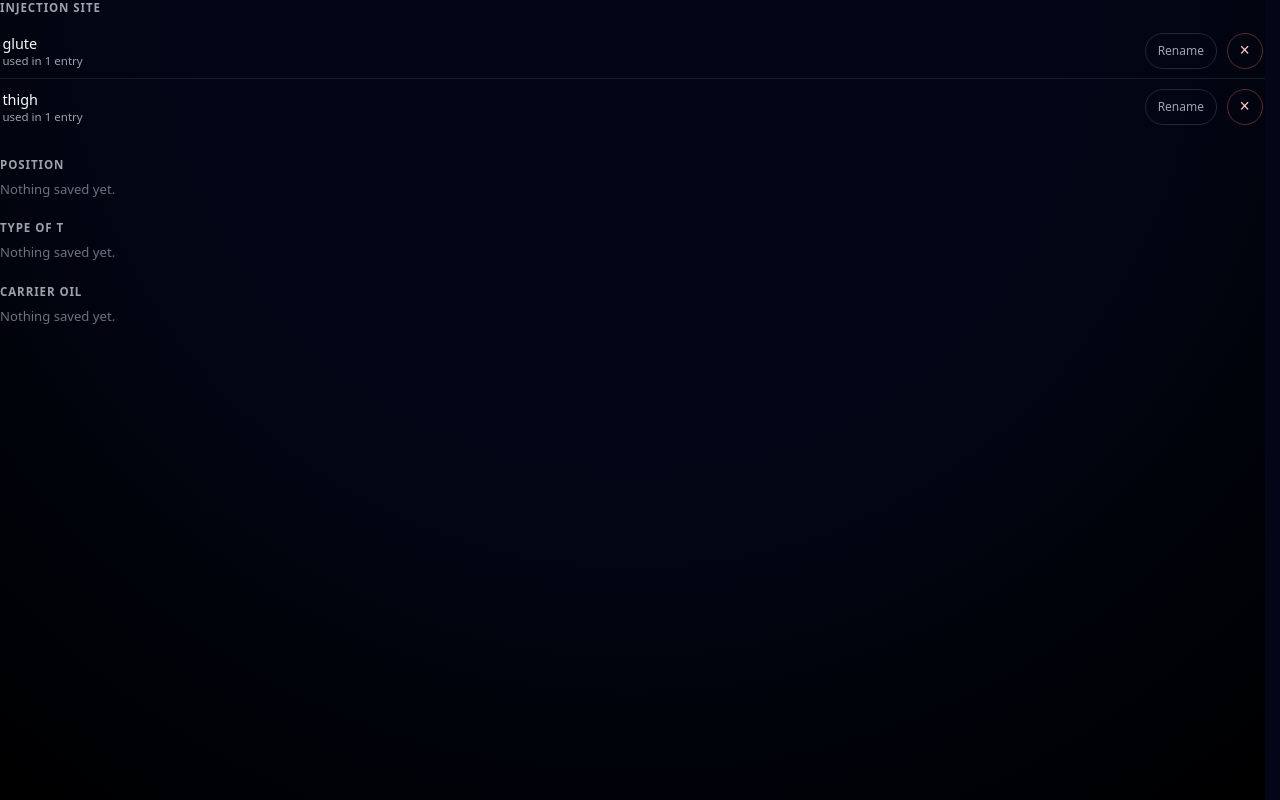
it: ManageValues › moves focus to the panel when Remove deletes the opener's row
Click the button named "Remove glute". click: (1245, 51)
box: left=1227, top=33, right=1263, bottom=69
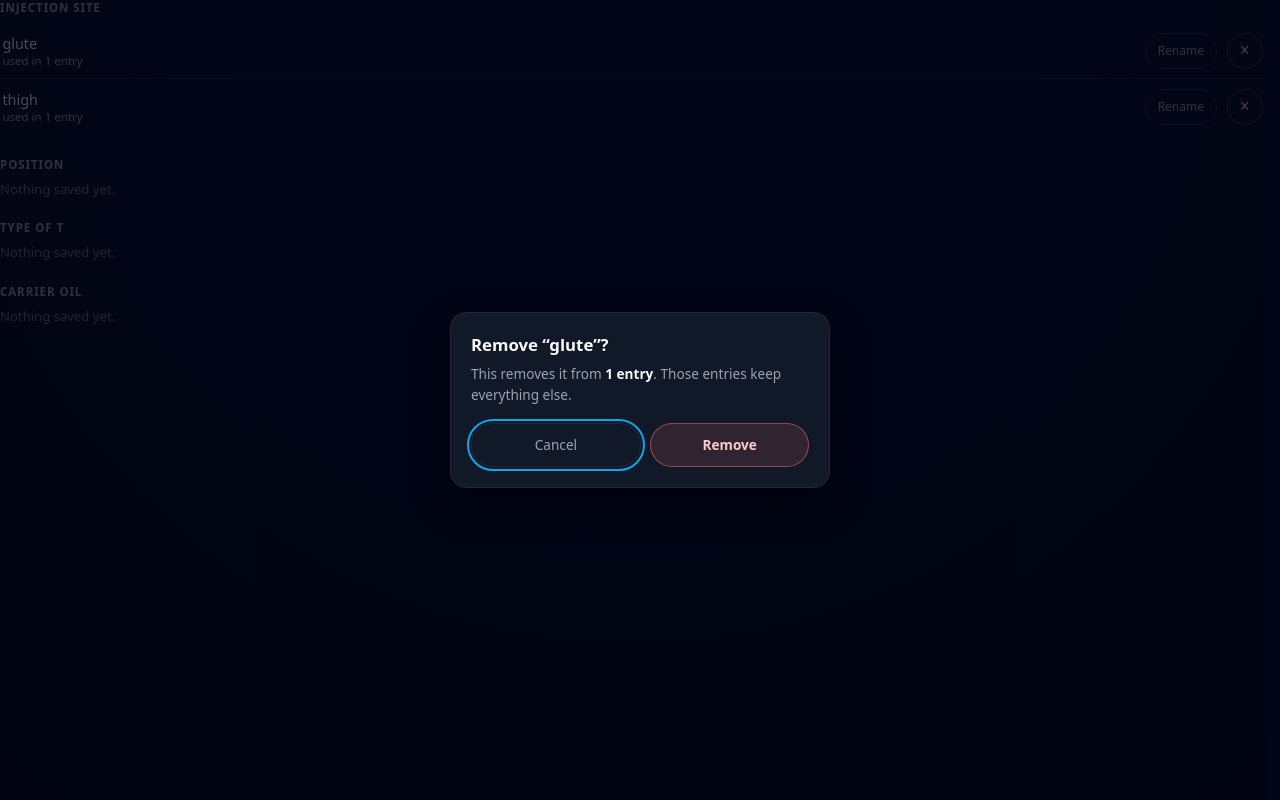
Click the button "Remove". click: (730, 445)
box: left=650, top=423, right=809, bottom=467
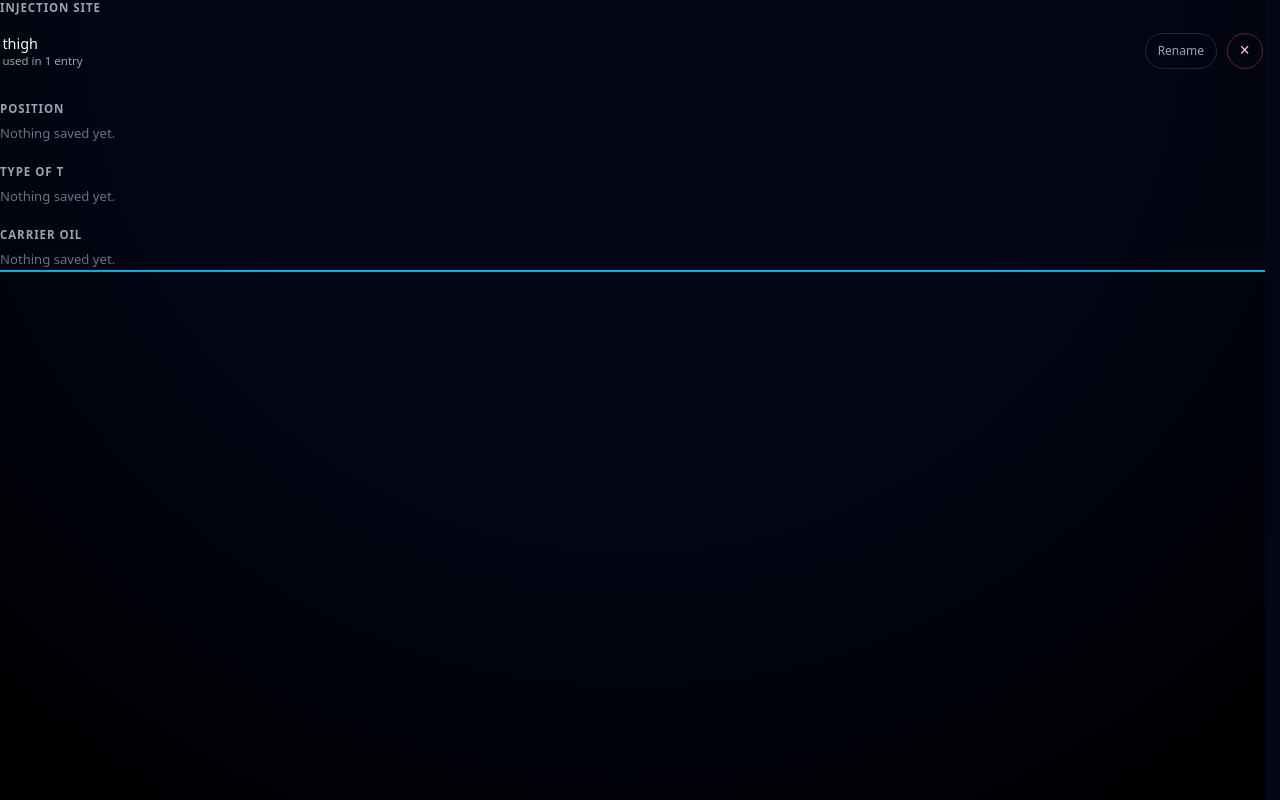
Now the text "glute" is gone
